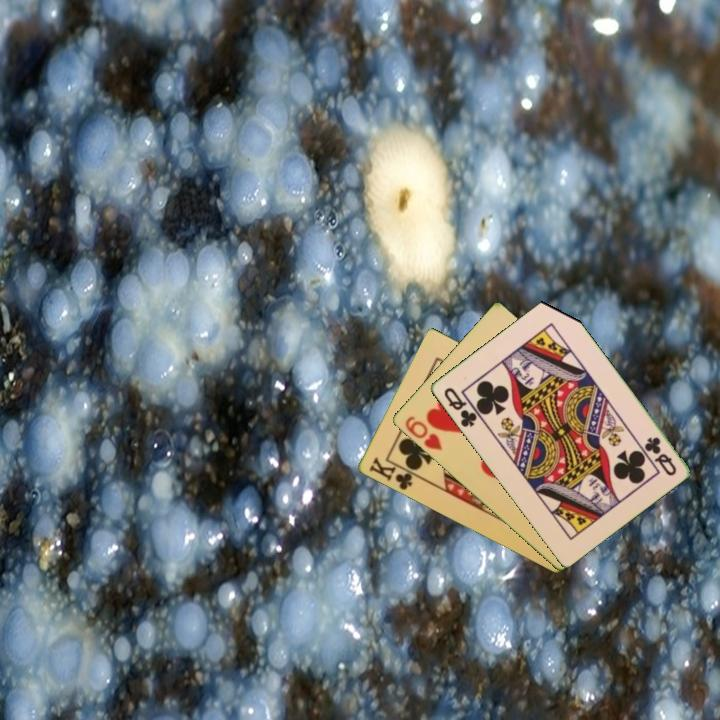6h: (401, 413, 445, 453)
Kc: (365, 454, 421, 493)
Qc: (440, 384, 479, 430), (640, 433, 679, 479)
